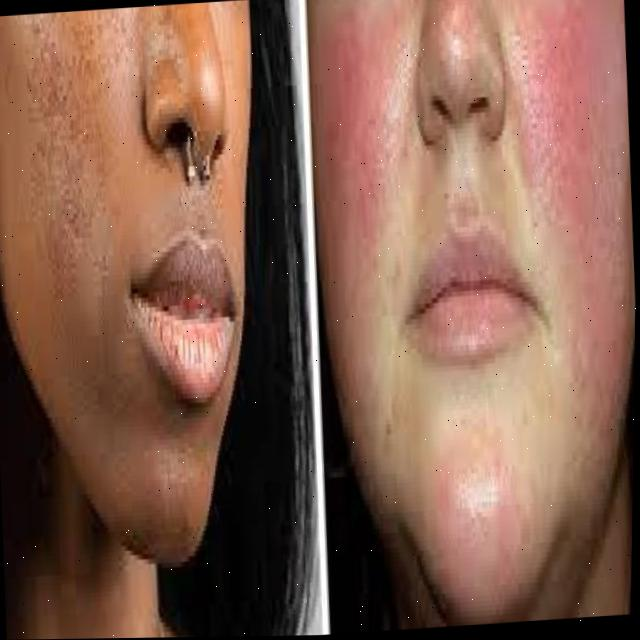Rosacea: (543, 0, 639, 407), (287, 5, 436, 251), (33, 8, 136, 247), (448, 423, 535, 576)
